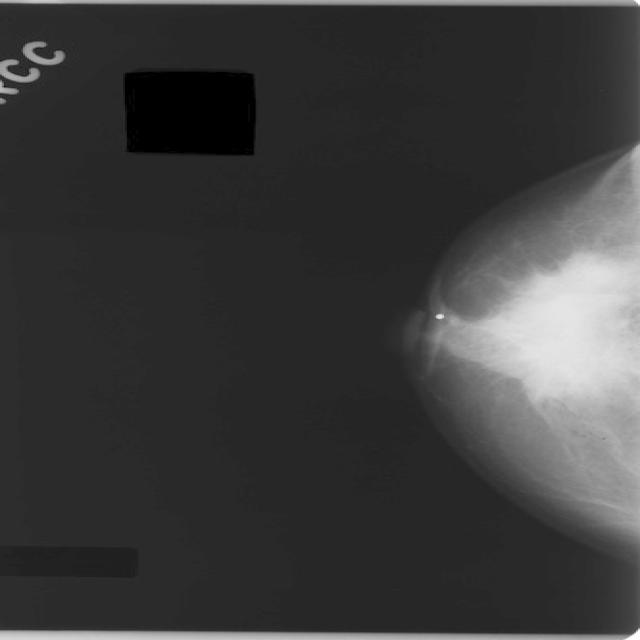tumour: (498, 250, 630, 400)
